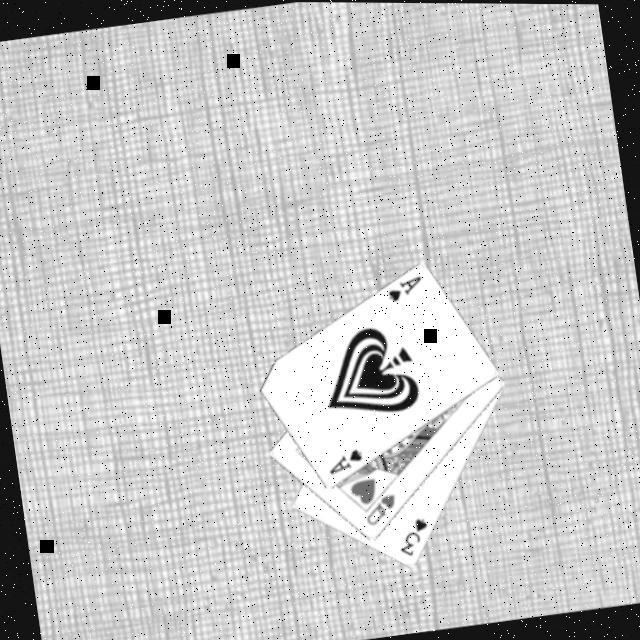3S: (392, 512, 433, 559)
AS: (382, 271, 427, 305), (322, 443, 366, 476)
QH: (359, 489, 400, 528)
